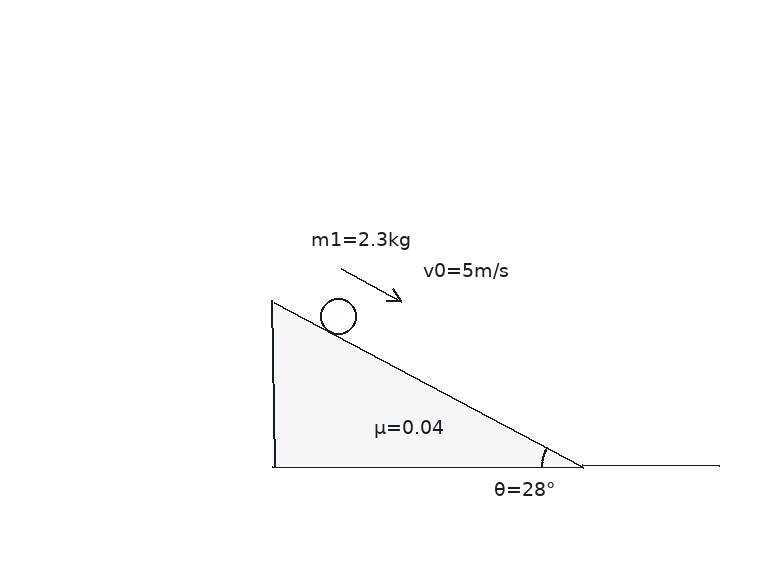ball: (318, 296, 358, 336)
ramp: (271, 300, 584, 468)
